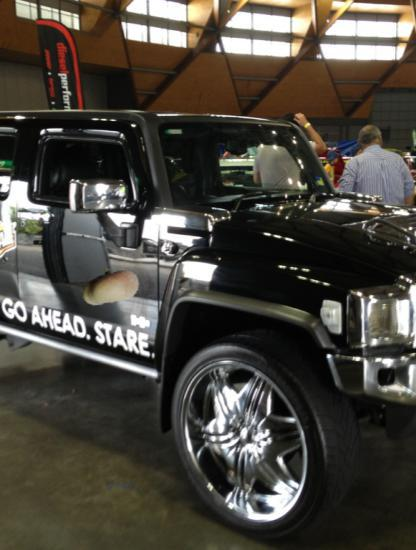Peach: (81, 257, 140, 316)
